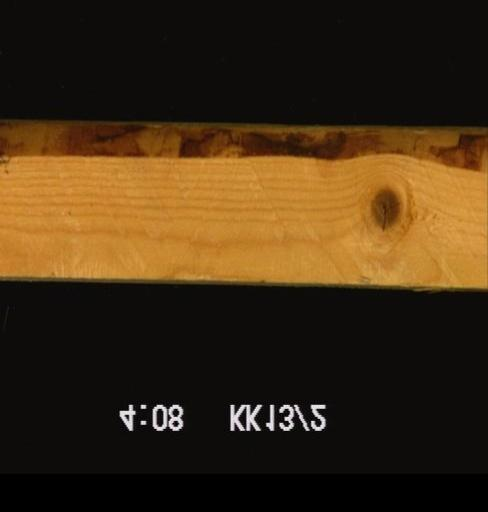sound_knot: (366, 184, 399, 231)
wave: (0, 118, 486, 175)
